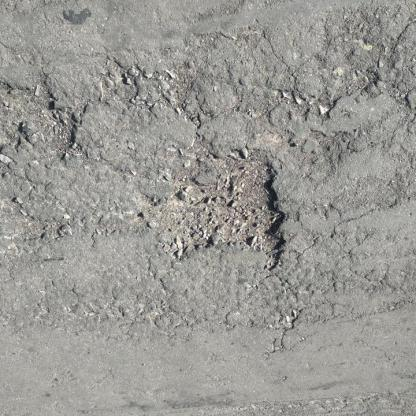pothole: (153, 150, 294, 275), (31, 86, 83, 160)
